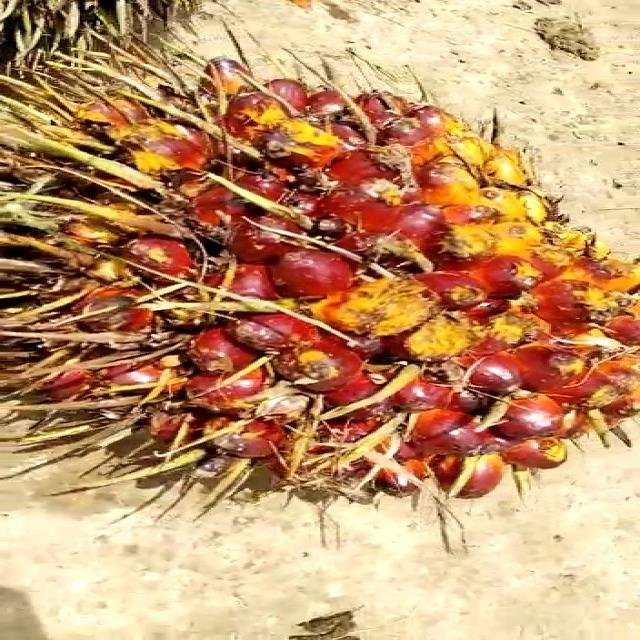palm oil: (1, 77, 640, 507)
